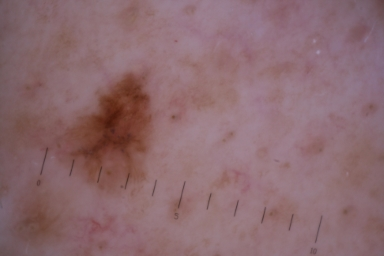nevus: (73, 73, 148, 164)
